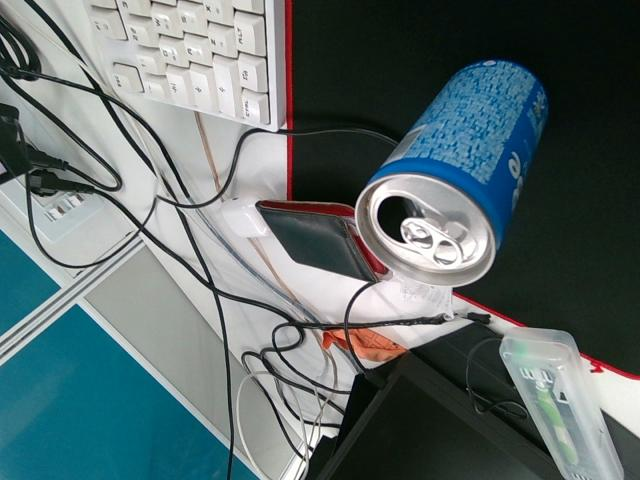letsbe: (353, 57, 549, 287)
